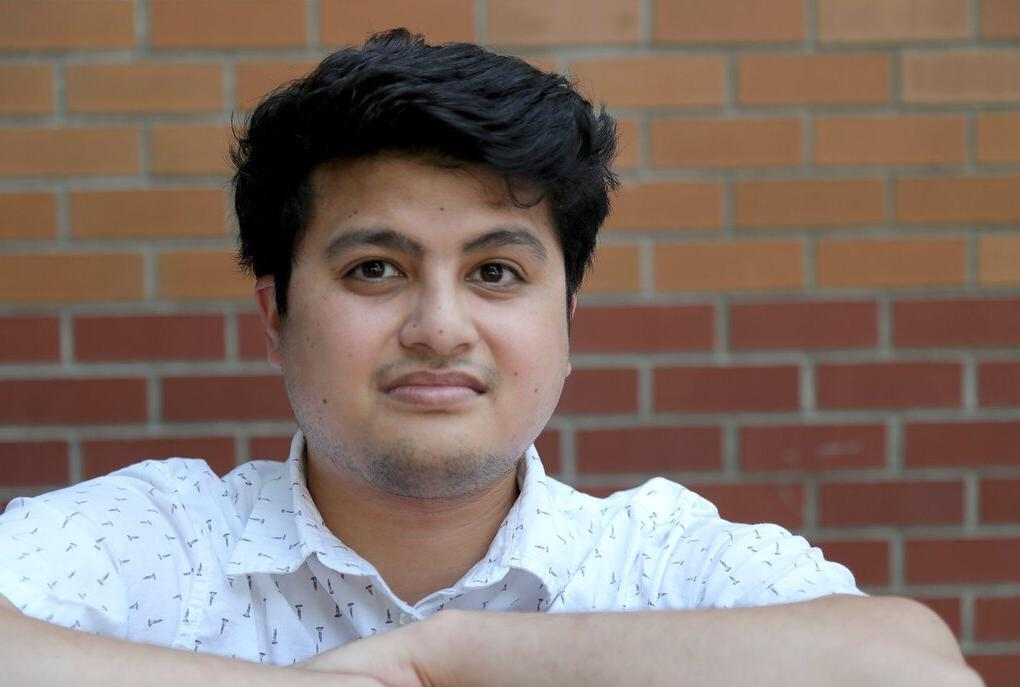Sober: (303, 156, 566, 463)
